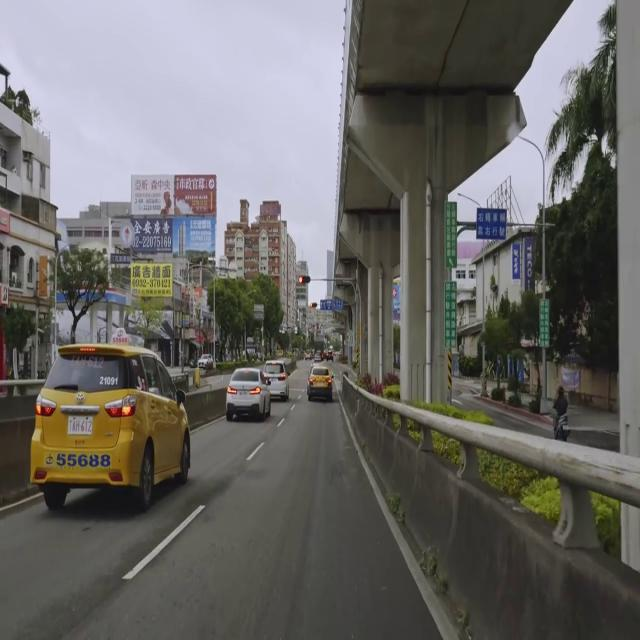red light: (298, 275, 310, 284)
